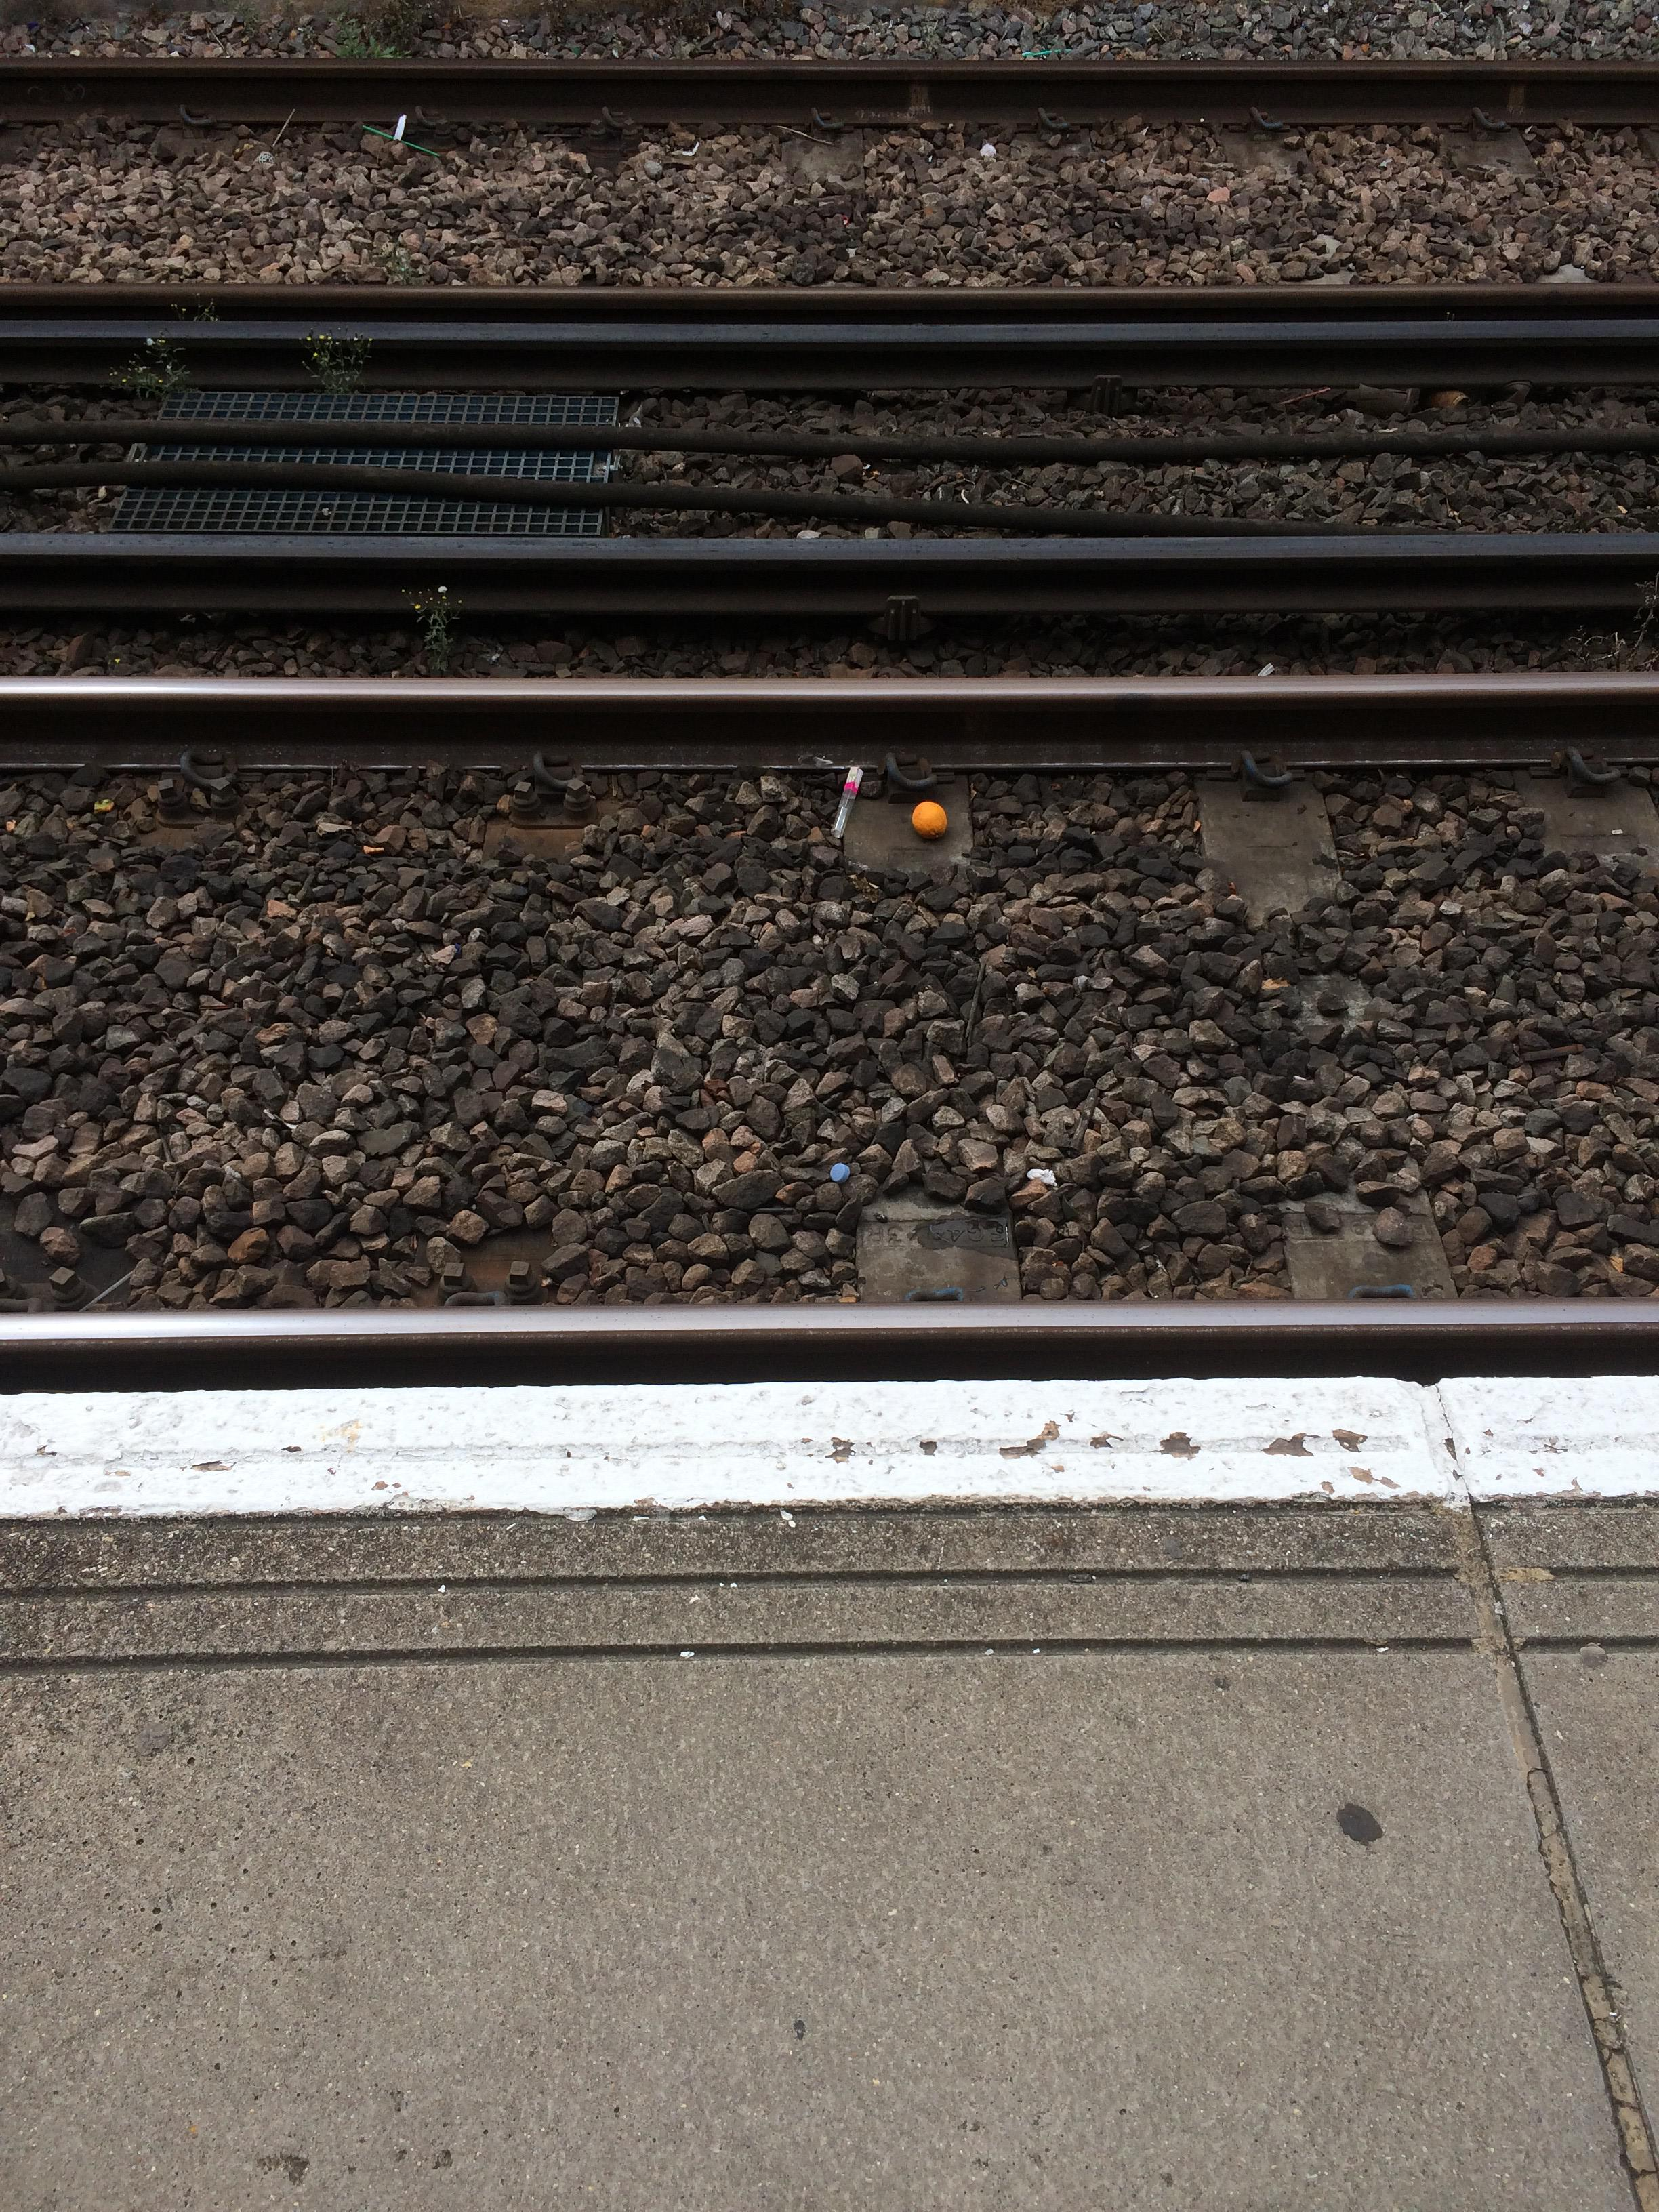Trash: (906, 798, 953, 841)
